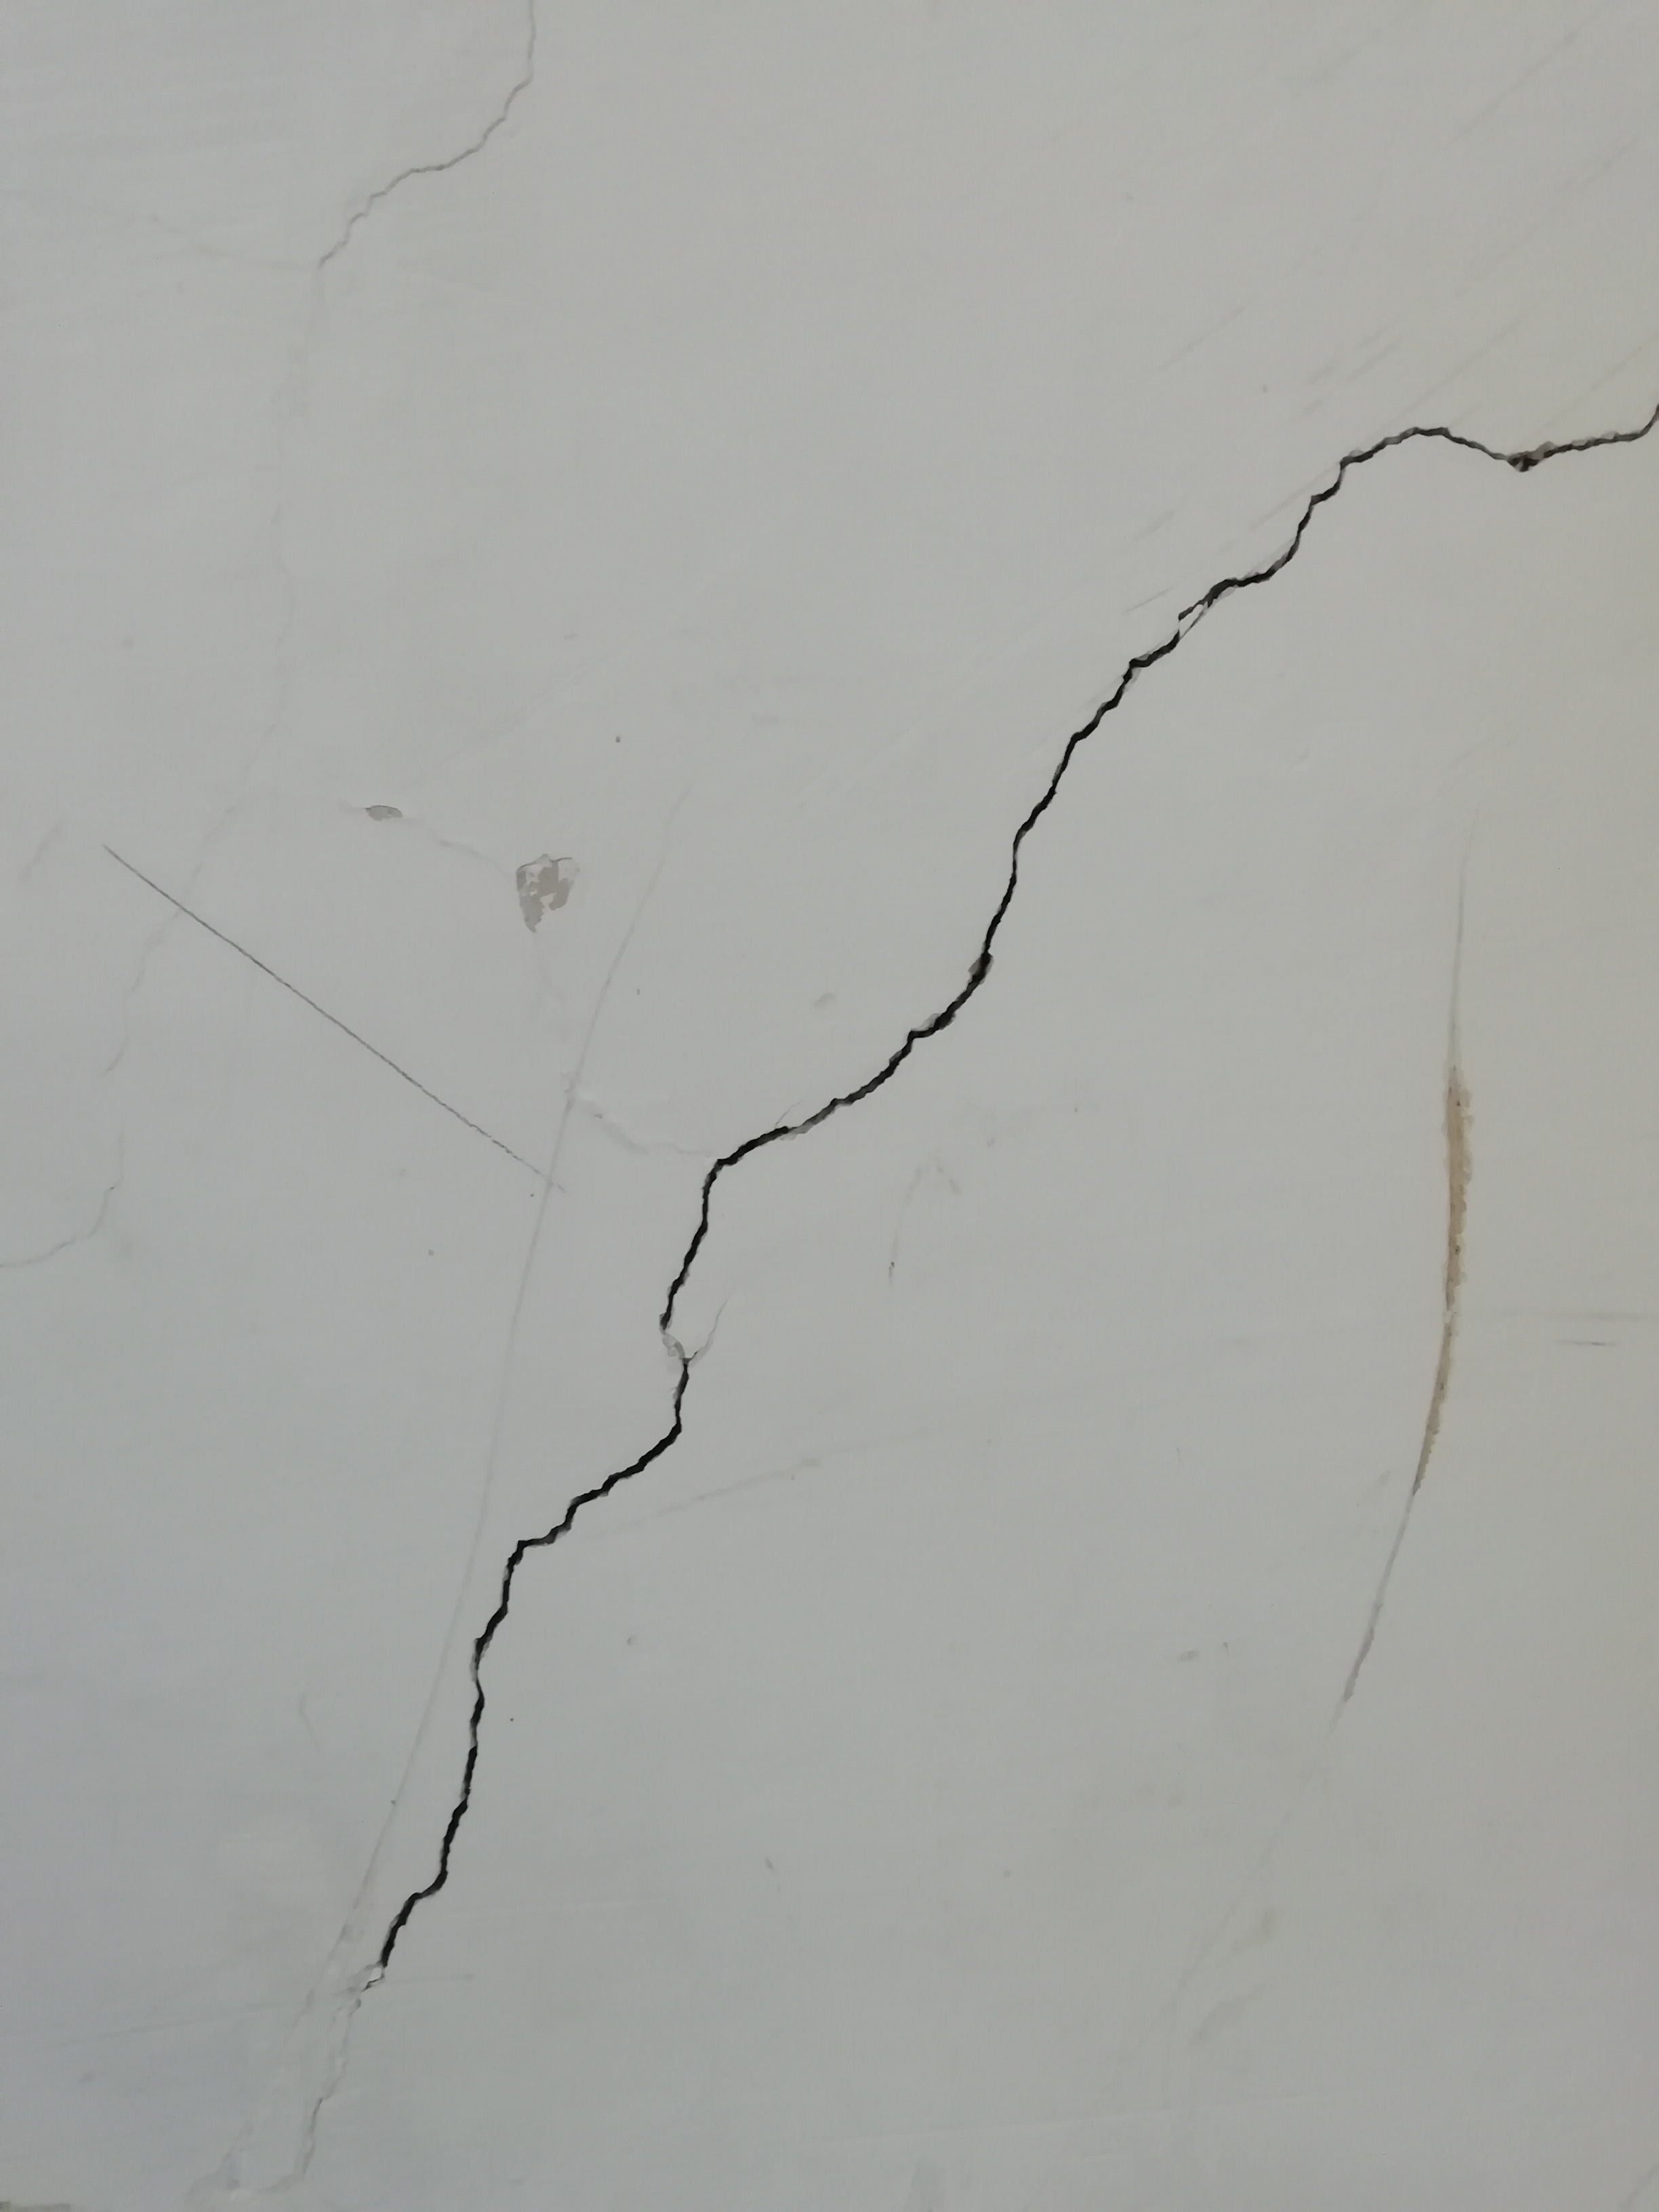Crack: (995, 439, 1391, 925), (653, 942, 995, 1421), (382, 1430, 671, 1979), (1378, 408, 1659, 470)
